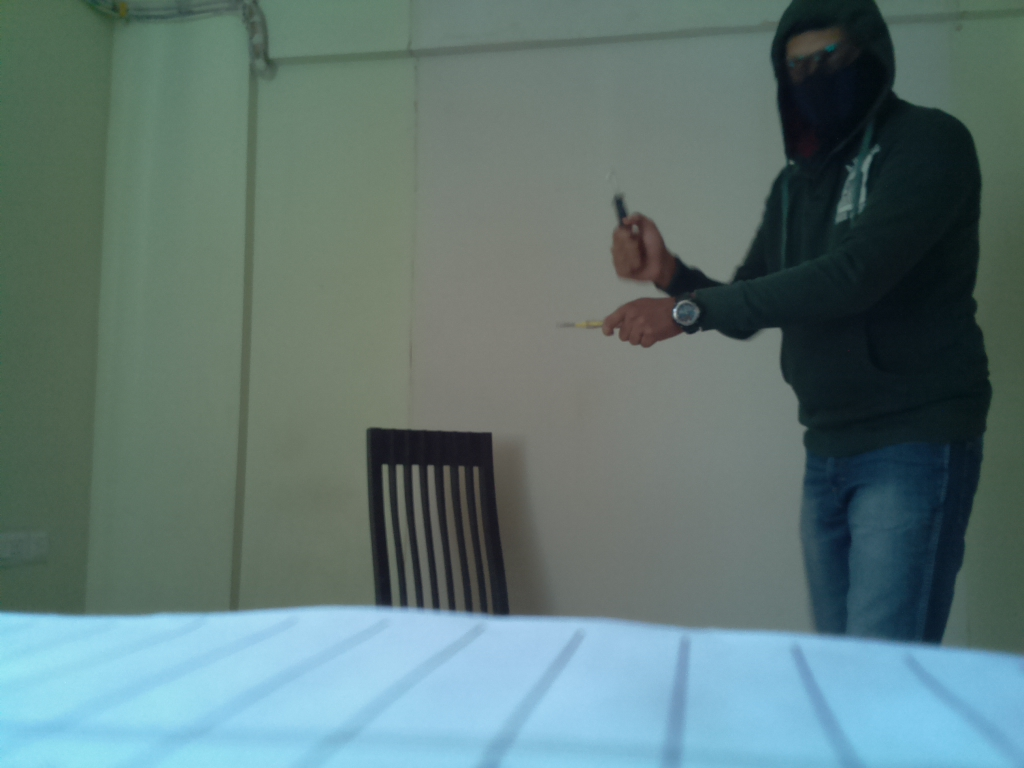none2: (679, 292, 712, 338)
